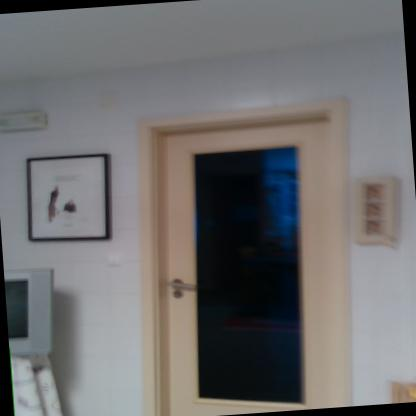closed: (128, 90, 374, 415)
